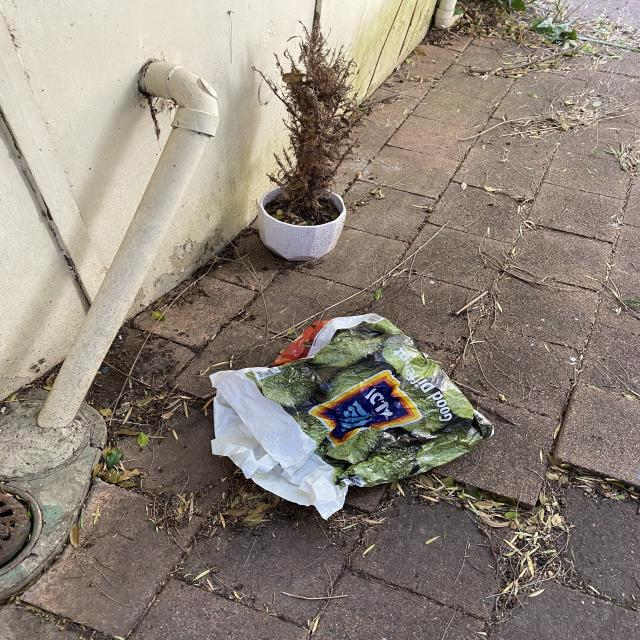bag: (199, 308, 493, 519)
container: (258, 186, 347, 266)
